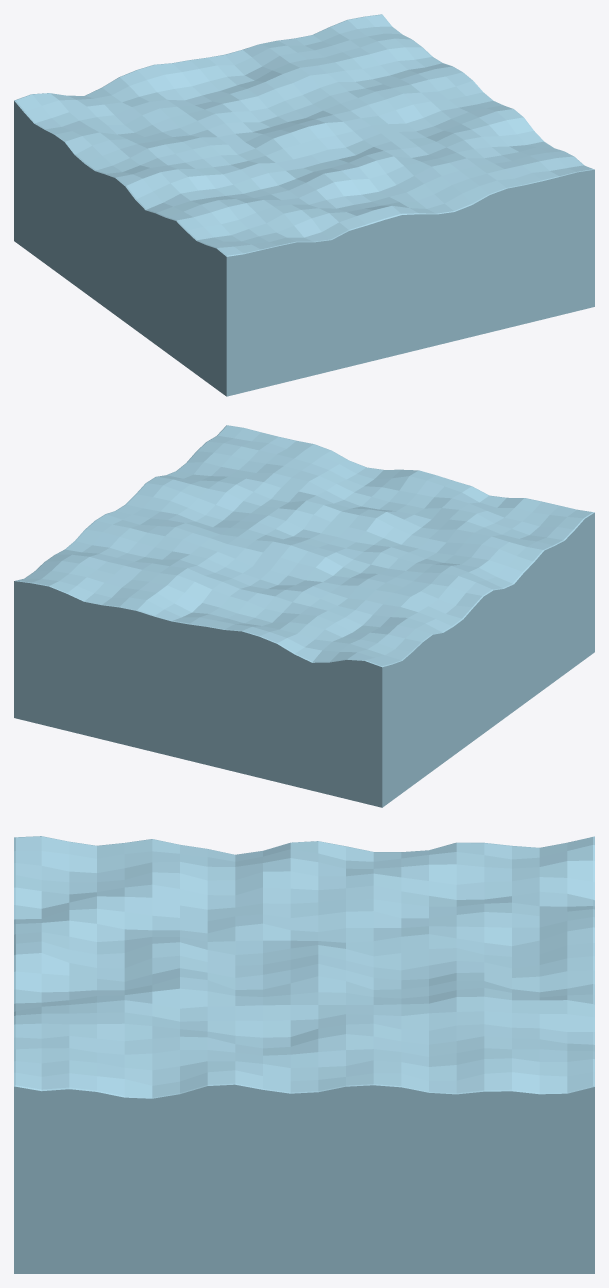
File: marine-biome-water.glb
3 views of the same model, one above another, from view 1: azimuth 30°, elevation 25°; view 2: azimuth 150°, elevation 25°; view 3: azimuth 270°, elevation 25° (orthographic). The views are drawn at different scales.
Parts seen in each view (by area): view 1: Cube; view 2: Cube; view 3: Cube.
Boxes of the visible parts, <box> form: Cube: <box>14,14,594,396</box>; Cube: <box>14,425,594,807</box>; Cube: <box>14,836,594,1273</box>.
Bounding box in the file's own units: 2 × 0.7419 × 2.
